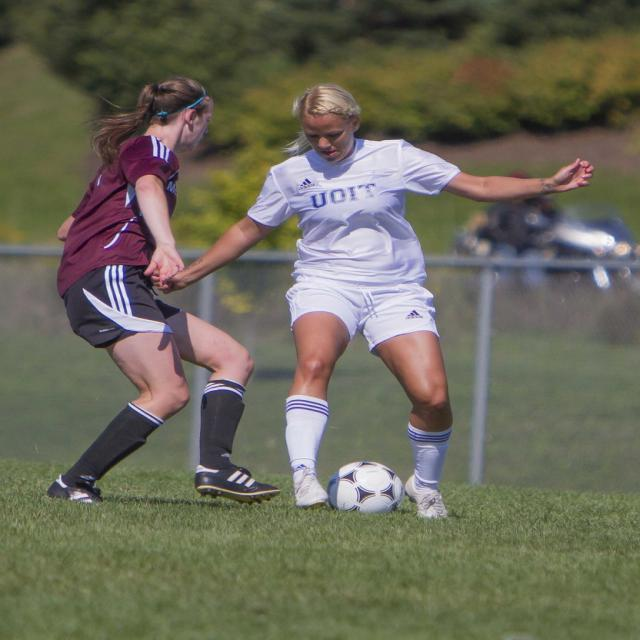football: (313, 453, 417, 526)
